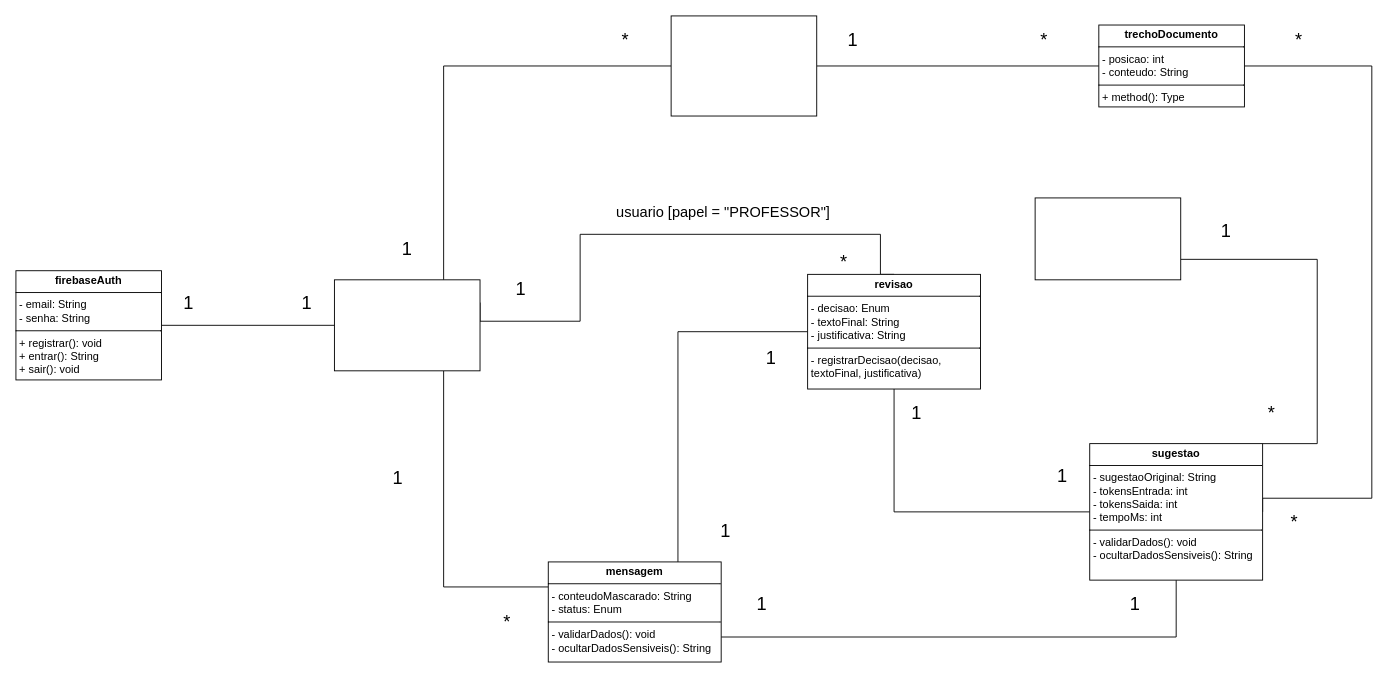
The diagram is 1389 pixels wide and 678 high, and some of its shapes have lost their labels. The centre of each missing label's shape, as x and y in pixels:
documento - nome: String - tipoMime: String - conteudo: String + method(): Type: point 743,65
modeloIA - nome: String - versao: String + method(): Type: point 1107,238
usuario - papel: Enum - nome: String + enviarMensagem(): String: point 407,325
